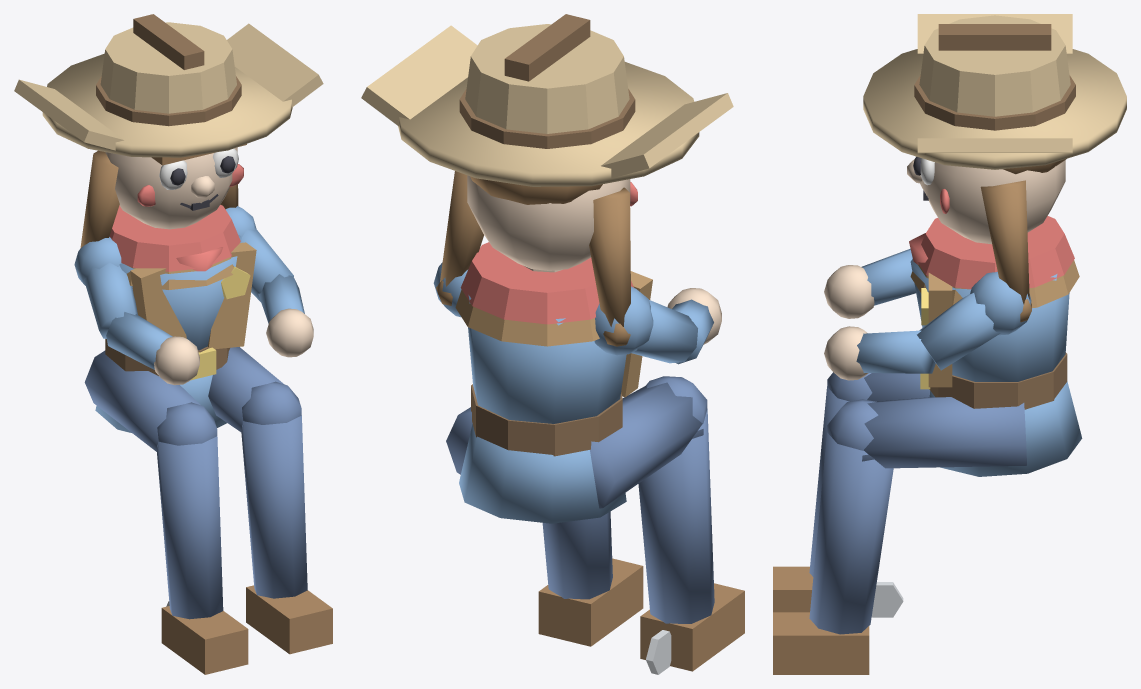
Rendered from meeple_09_cowgirl.glb.
3 views of the same model, side by side, from view 1: azimuth 30°, elevation 25°; view 2: azimuth 150°, elevation 25°; view 3: azimuth 270°, elevation 25° (orthographic). The views are drawn at different scales.
Visible parts, largest first — view 1: meeple_09_cowgirl; view 2: meeple_09_cowgirl; view 3: meeple_09_cowgirl.
Boxes of the visible parts, box(x1,y1,x2,y2) form: meeple_09_cowgirl: box(14, 14, 332, 674); meeple_09_cowgirl: box(361, 14, 744, 674); meeple_09_cowgirl: box(773, 14, 1126, 674).
Size of the model in its own units: 0.6525 by 1.43 by 0.7531.
